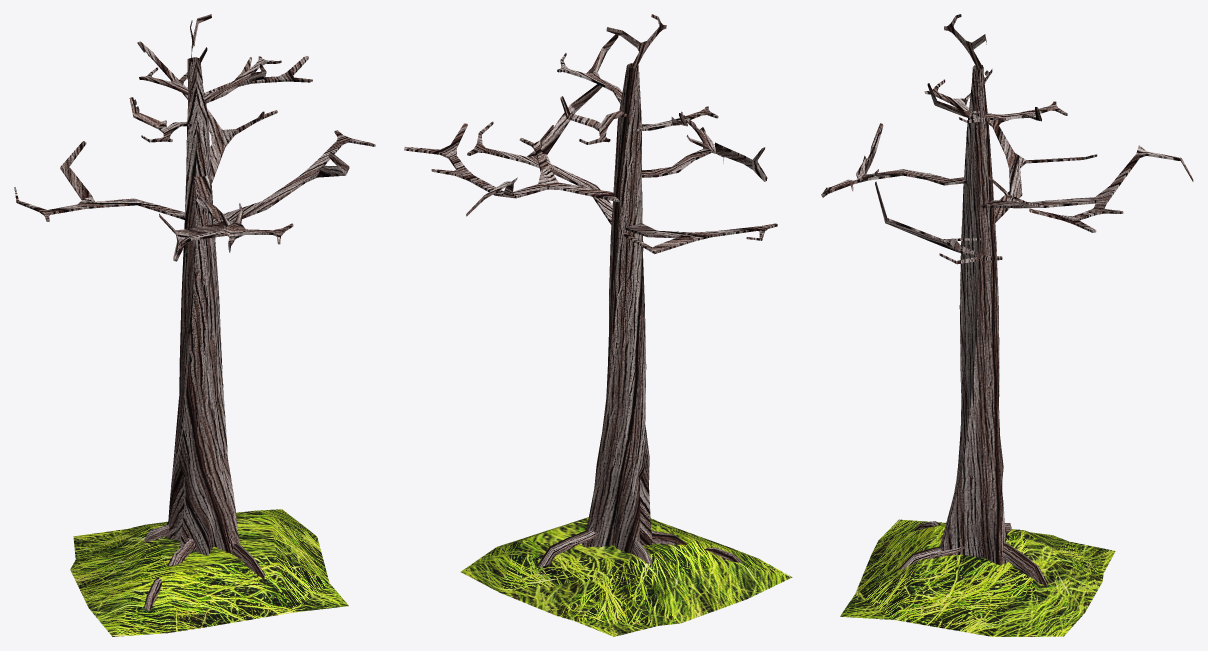
Rendered from Environment.Trees.02.fbx.
3 views of the same model, side by side, from view 1: azimuth 30°, elevation 25°; view 2: azimuth 150°, elevation 25°; view 3: azimuth 270°, elevation 25° (orthographic).
Parts seen in each view (by area): view 1: DeadTree; view 2: DeadTree; view 3: DeadTree.
Boxes of the visible parts, x1,y1,x2,y2 form: DeadTree: (14, 14, 375, 636); DeadTree: (404, 14, 792, 636); DeadTree: (821, 14, 1193, 636).
Bounding box in the file's own units: 364 × 602 × 363.
